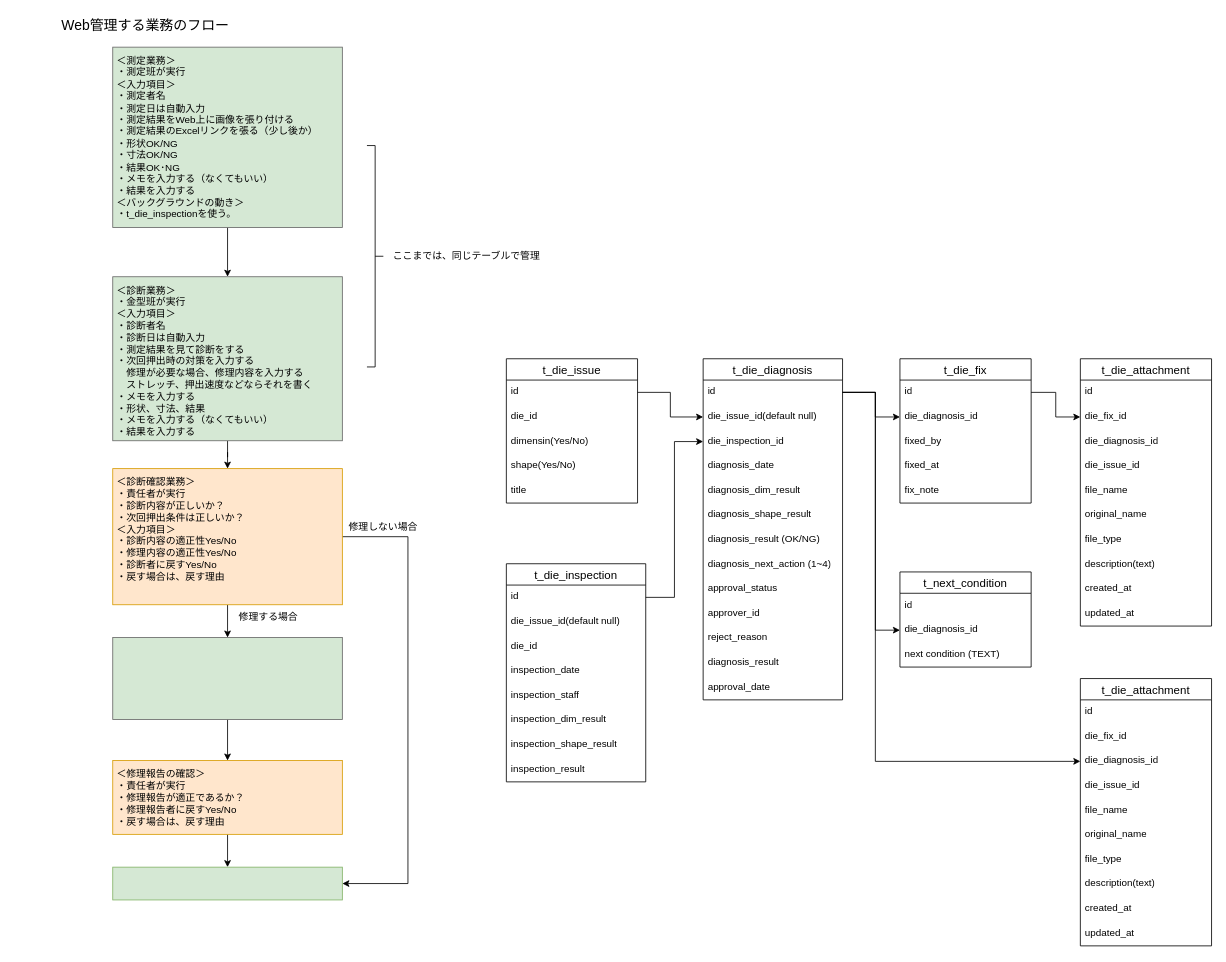
Image size: 1226x962. Some labels were removed from this diagram. The centre of each missing label's shape, as x and y in pixels:
"＜修理した場合＞ ・修理内容の記録 ＜入力項目＞ ・修理者 ・修理内容の絵、写真を添付" belongs at [227,678].
"＜押出＞" belongs at [227,883].
